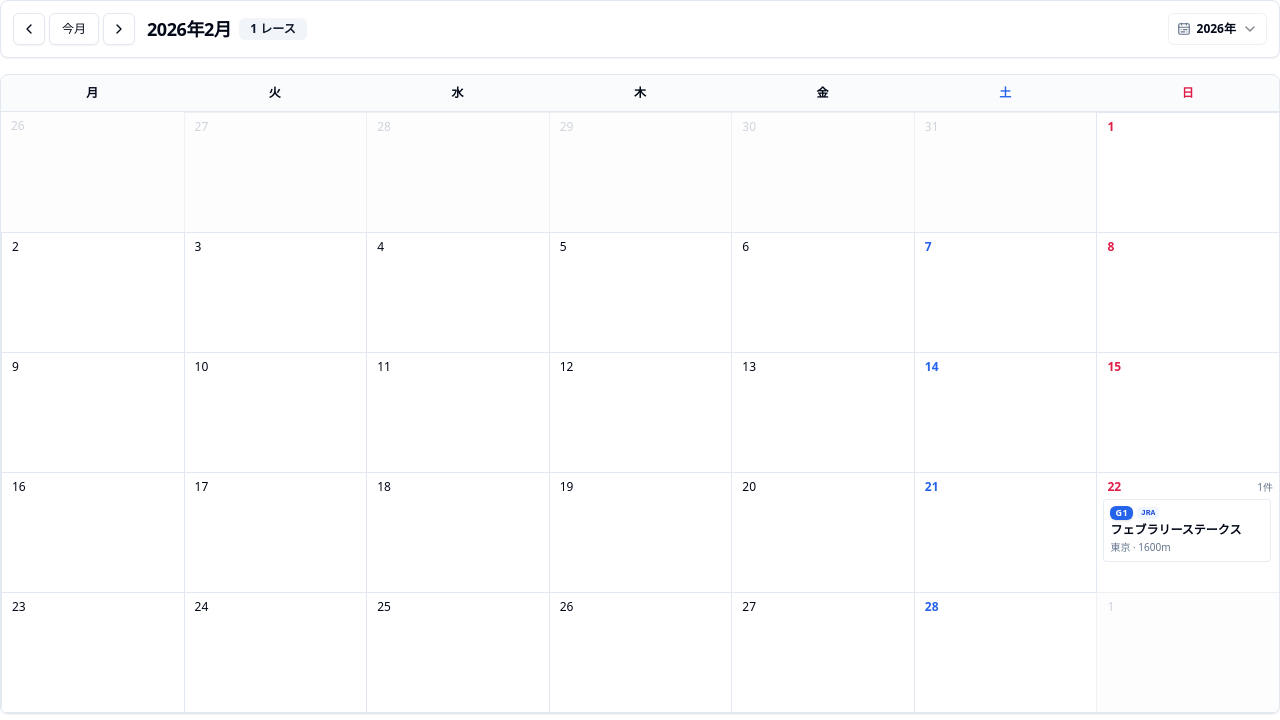
Test: CalendarView › カレンダー内のレースバッジをクリックすると詳細ダイアログが表示されること
Click the button with aria-label "フェブラリーステークス 詳細を表示": click(1187, 530) [1103, 499, 1271, 562]
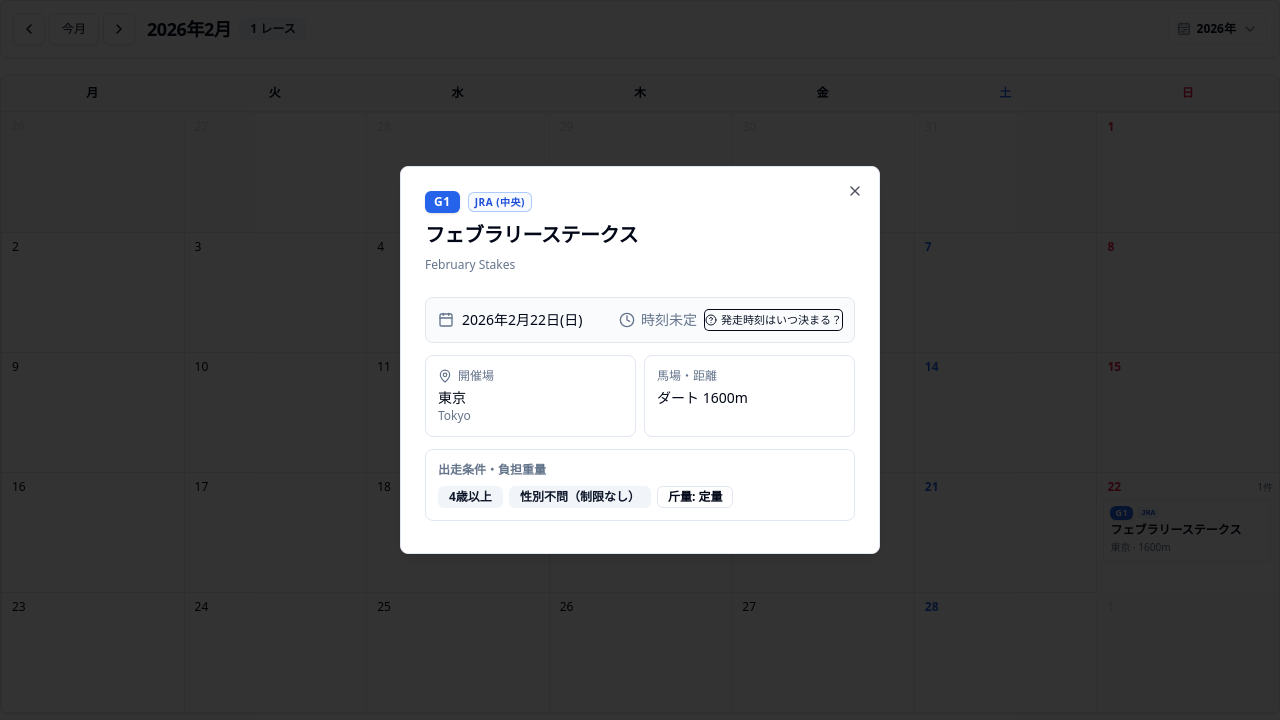
expect the dialog is shown: met, box [400, 166, 880, 554]
expect the text "February Stakes" is shown: met, box [425, 256, 515, 273]
expect the text "出走条件・負担重量" is shown: met, box [438, 461, 546, 478]
